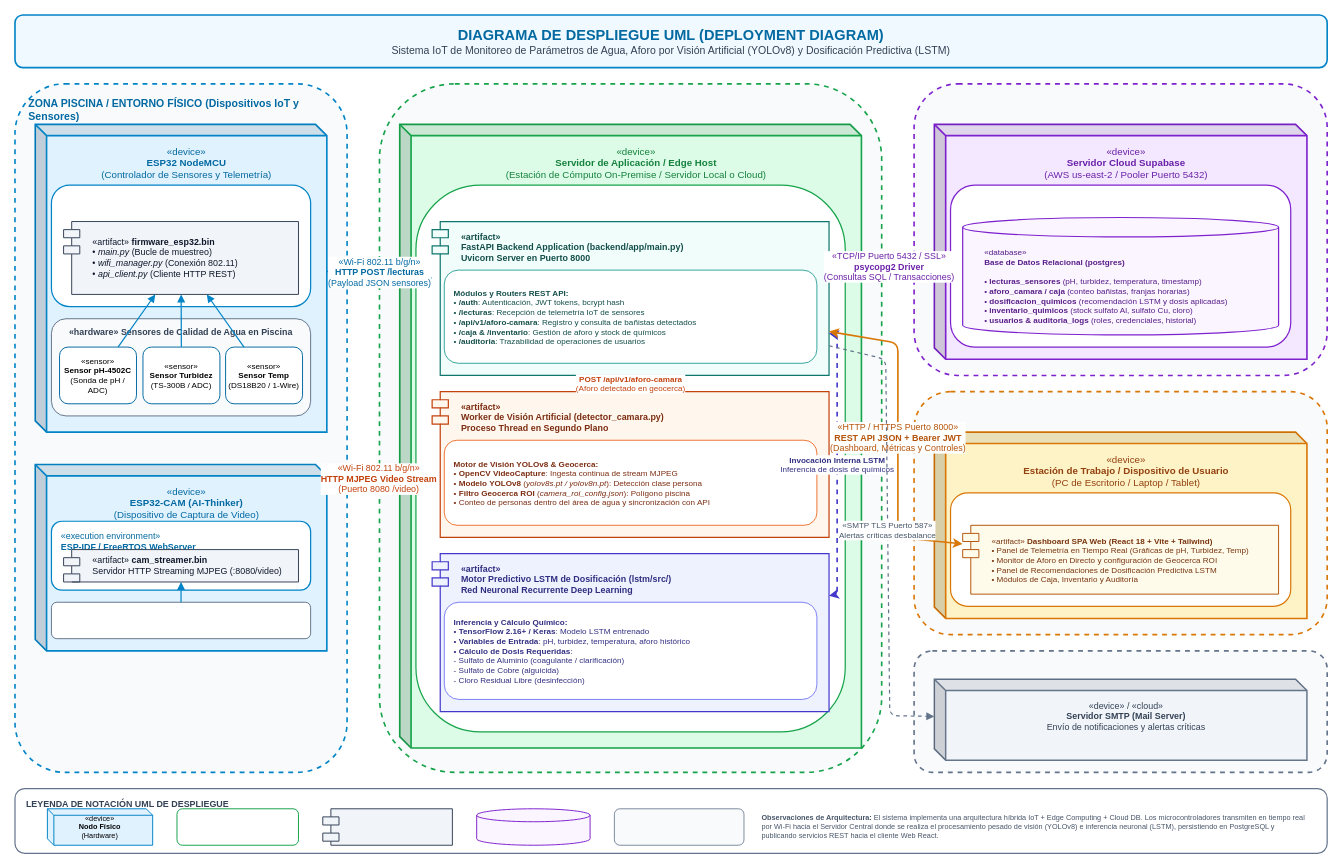
Some shapes in this 1341 by 868 pixel diagram are drawn without their labels. Each missing label, with the box of its shape:
ALMACENAMIENTO DE DATOS (Cloud Database): (913, 83, 1328, 376)
Conexión Red / Protocolo Wi-Fi, HTTP, TCP/IP, SSL: (614, 808, 744, 845)
SERVICIOS EXTERNOS: (913, 650, 1328, 773)
SERVIDOR CENTRAL / EDGE COMPUTING (Procesamiento, Visión e IA): (378, 83, 882, 773)
TERMINAL DE CONTROL / CLIENTE (Operador y Administrador): (913, 390, 1328, 635)
«artifact» Artefacto Software (Archivo / Binario / App): (322, 808, 452, 845)
«database» Motor de BD (Instancia relacional): (476, 808, 590, 845)
«execution environment» Entorno de Ejecución (Runtime / SO / Motor): (176, 808, 299, 845)
«execution environment» MicroPython / FreeRTOS Runtime: (50, 184, 311, 307)
«execution environment» Navegador Web (Chrome, Edge, Firefox, Safari): (950, 492, 1291, 607)
«execution environment» PostgreSQL 15+ RDBMS Engine: (950, 184, 1291, 347)
«execution environment» Python 3.10+ Runtime / Uvicorn ASGI Server: (415, 184, 845, 732)
«hardware» Sensor Óptico OV2640 (2MP) — Enfoque perimetral piscina: (51, 601, 311, 639)
